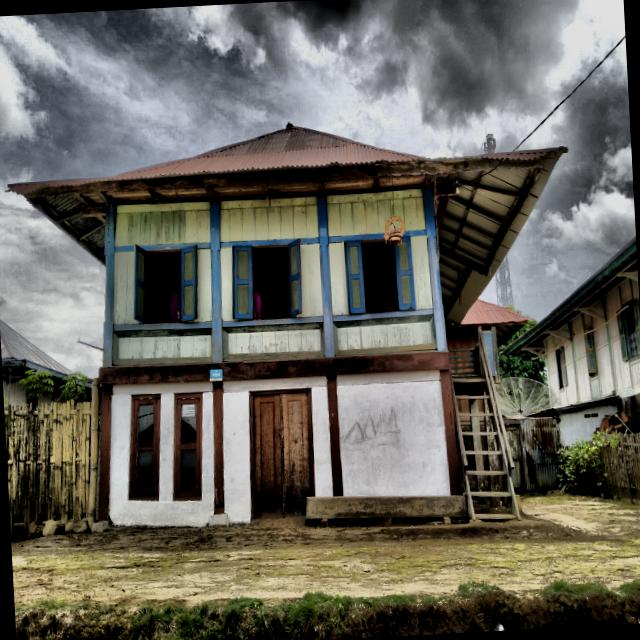door: (250, 392, 313, 518), (280, 393, 312, 516)
roof: (10, 127, 564, 323), (10, 127, 416, 194), (504, 237, 637, 353), (0, 320, 70, 378), (461, 300, 528, 325)
stair: (452, 329, 520, 520)
wall: (105, 190, 436, 365), (222, 377, 332, 523), (223, 377, 331, 523), (108, 383, 213, 526), (337, 372, 448, 496), (543, 279, 639, 405), (327, 190, 424, 236), (220, 197, 317, 242), (115, 202, 209, 246), (335, 318, 433, 354), (556, 402, 616, 446), (112, 252, 139, 324), (297, 244, 322, 317), (2, 368, 25, 406)
window: (344, 237, 414, 313), (232, 241, 300, 319), (133, 246, 196, 323), (128, 396, 159, 499), (173, 394, 201, 500), (617, 300, 640, 361), (584, 324, 598, 376), (554, 346, 567, 389)
